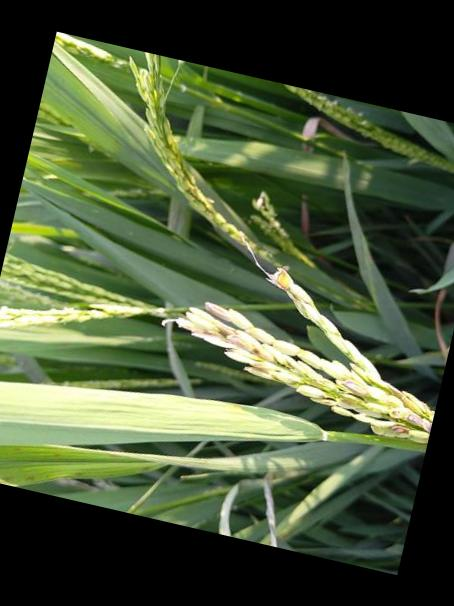Panicle Blight: (175, 268, 436, 447)
